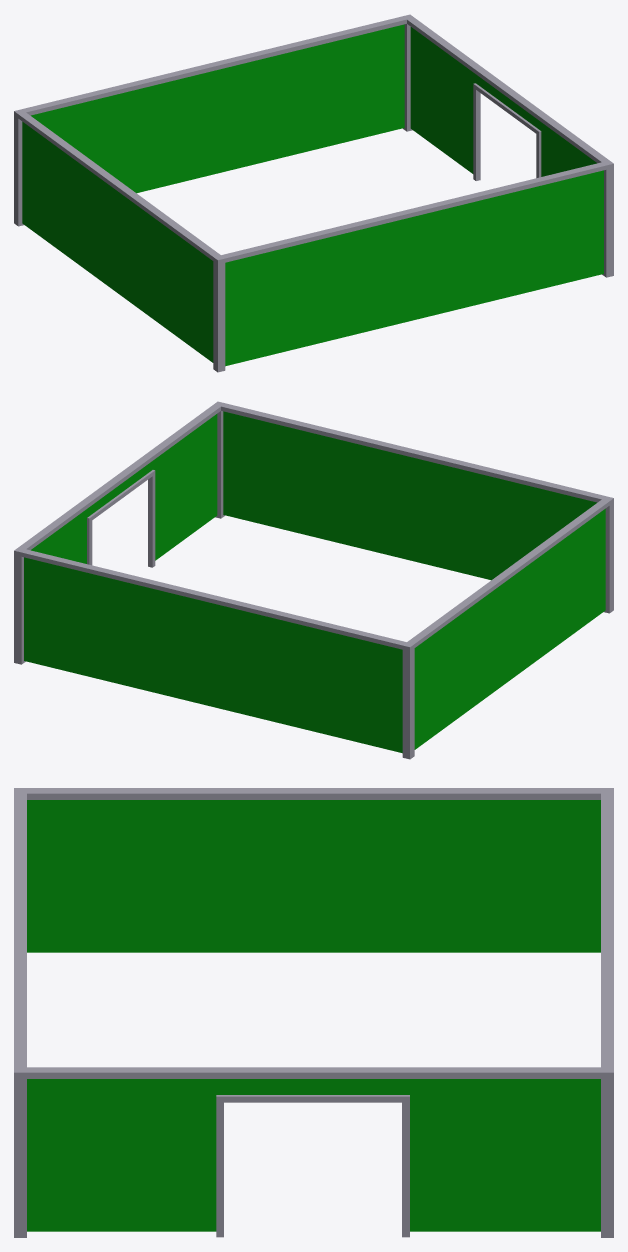
The model's file is Net (1).fbx.
3 views of the same model, one above another, from view 1: azimuth 30°, elevation 25°; view 2: azimuth 150°, elevation 25°; view 3: azimuth 270°, elevation 25° (orthographic). The views are drawn at different scales.
Parts seen in each view (by area): view 1: p_04, p_02, p_01, p_03; view 2: p_02, p_04, p_01, p_03; view 3: p_01, p_03, p_02, p_04.
Part boxes in pixels (<box>): p_04: <box>213,162,606,372</box>; p_02: <box>14,16,412,220</box>; p_01: <box>14,109,225,372</box>; p_03: <box>403,14,613,277</box>; p_02: <box>18,549,414,753</box>; p_04: <box>221,403,613,604</box>; p_01: <box>402,496,613,759</box>; p_03: <box>14,401,224,664</box>; p_01: <box>14,788,613,952</box>; p_03: <box>14,1067,613,1237</box>; p_02: <box>601,793,613,1237</box>; p_04: <box>14,789,26,1067</box>.
Size of the model in its own units: 1578 by 428 by 1406.
